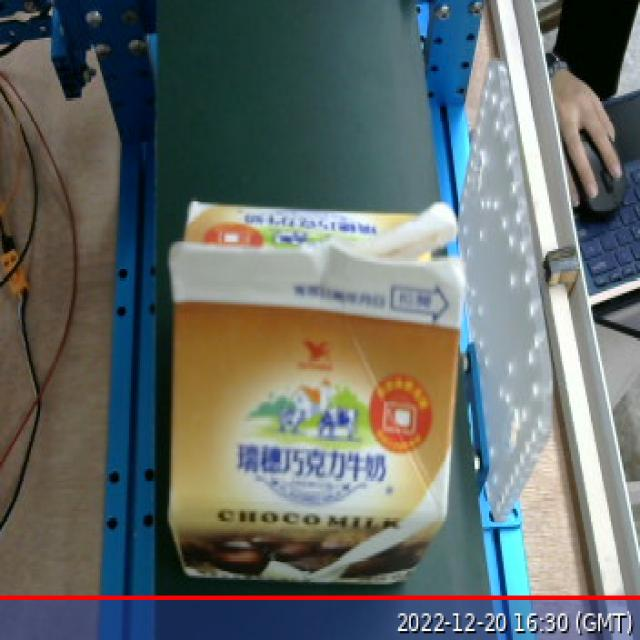non_white_jug: (146, 183, 482, 584)
